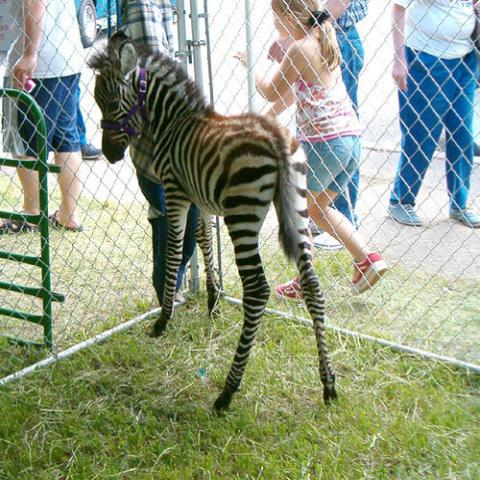car: (75, 1, 119, 48)
